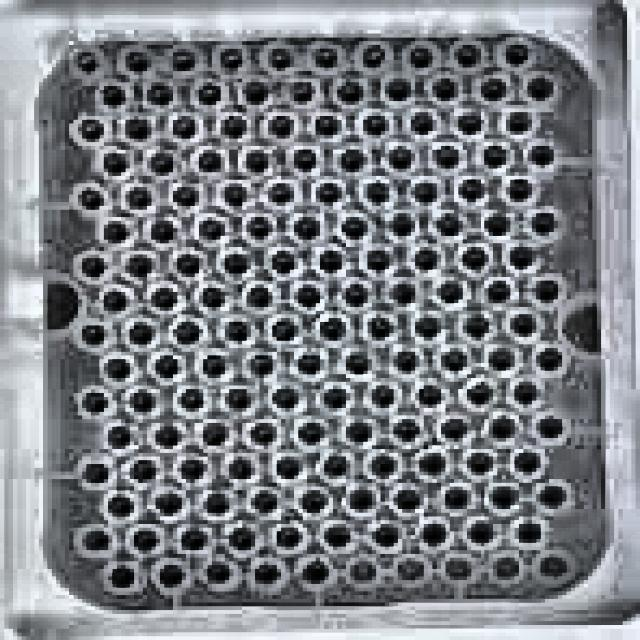vial: (266, 381, 307, 417), (221, 523, 263, 558), (316, 382, 358, 415), (295, 556, 335, 590), (363, 381, 404, 413), (177, 522, 215, 556), (247, 558, 285, 591), (386, 347, 425, 379), (152, 560, 187, 595), (297, 485, 334, 518), (264, 177, 302, 209), (213, 181, 251, 213), (532, 412, 570, 444), (425, 74, 464, 105), (125, 525, 166, 554), (240, 212, 277, 244), (335, 277, 372, 309), (246, 488, 283, 520), (270, 522, 307, 554), (76, 386, 114, 417), (191, 213, 230, 243), (259, 111, 298, 141), (367, 523, 407, 552), (341, 348, 376, 381), (459, 244, 495, 276), (428, 276, 465, 307), (260, 43, 298, 73), (506, 378, 544, 408), (406, 176, 441, 208), (429, 138, 464, 170), (404, 41, 439, 73), (385, 278, 421, 309), (461, 310, 497, 341), (200, 489, 236, 520), (359, 178, 396, 208), (174, 385, 212, 414), (535, 481, 573, 510), (510, 517, 549, 545), (479, 139, 513, 171), (335, 143, 369, 175), (316, 243, 350, 275), (321, 520, 355, 552), (455, 174, 490, 205), (500, 106, 535, 137), (530, 343, 565, 374), (505, 310, 540, 341), (293, 420, 329, 450), (342, 485, 378, 515), (215, 113, 252, 142), (504, 243, 541, 272), (486, 412, 519, 444), (152, 350, 186, 381), (289, 213, 325, 242), (306, 43, 342, 72), (99, 218, 136, 246), (450, 111, 487, 139), (118, 115, 156, 142), (192, 146, 225, 177), (357, 41, 388, 74), (531, 273, 564, 304), (191, 78, 225, 108), (482, 275, 516, 305), (436, 415, 470, 445), (439, 346, 473, 376), (487, 483, 521, 513), (175, 453, 209, 483), (291, 281, 326, 310), (101, 354, 136, 383), (484, 344, 520, 372), (74, 183, 106, 214), (452, 40, 484, 71), (149, 282, 180, 314), (73, 114, 106, 144), (527, 141, 560, 171), (381, 77, 414, 107), (171, 317, 204, 347), (242, 348, 275, 378), (80, 457, 113, 487), (97, 82, 131, 111), (238, 147, 272, 176), (165, 46, 199, 75), (413, 381, 447, 410), (124, 387, 159, 415), (314, 315, 349, 343), (165, 183, 201, 210), (79, 528, 115, 555), (462, 379, 493, 410), (267, 315, 299, 345), (413, 312, 445, 342), (384, 211, 417, 240), (238, 79, 271, 108), (143, 79, 176, 108), (198, 351, 231, 380), (344, 418, 377, 447), (368, 451, 401, 480), (333, 77, 367, 105), (383, 143, 417, 171), (283, 76, 317, 104), (215, 43, 249, 71), (363, 312, 397, 340), (477, 76, 512, 103), (125, 456, 160, 483), (200, 559, 235, 586), (529, 211, 560, 241), (124, 319, 154, 350), (227, 384, 257, 415), (417, 518, 448, 548), (361, 110, 393, 139), (294, 348, 326, 377), (168, 113, 201, 141), (500, 40, 533, 68), (410, 245, 443, 273), (241, 283, 274, 311), (220, 319, 253, 347), (97, 149, 131, 176), (145, 217, 179, 244), (224, 455, 258, 482), (150, 490, 184, 517), (103, 491, 137, 518), (289, 145, 319, 175), (524, 73, 555, 102), (145, 149, 176, 178), (320, 452, 351, 481), (441, 483, 472, 512), (199, 420, 230, 449), (119, 48, 151, 76), (338, 213, 370, 241), (482, 213, 514, 241), (391, 415, 423, 443), (463, 519, 495, 547), (105, 562, 137, 590), (244, 419, 277, 446), (99, 287, 130, 315), (103, 423, 134, 451), (76, 252, 109, 278), (512, 447, 545, 473), (505, 174, 533, 204), (196, 283, 226, 311), (122, 185, 154, 211), (405, 109, 438, 134), (311, 112, 341, 139), (273, 453, 303, 480), (434, 211, 465, 237), (362, 247, 393, 273), (77, 323, 108, 349), (313, 180, 343, 206), (123, 252, 153, 278), (269, 249, 300, 274), (462, 449, 493, 474), (154, 423, 183, 449), (393, 486, 423, 511), (73, 49, 101, 75), (222, 252, 252, 276), (419, 451, 447, 476), (176, 254, 204, 277)
